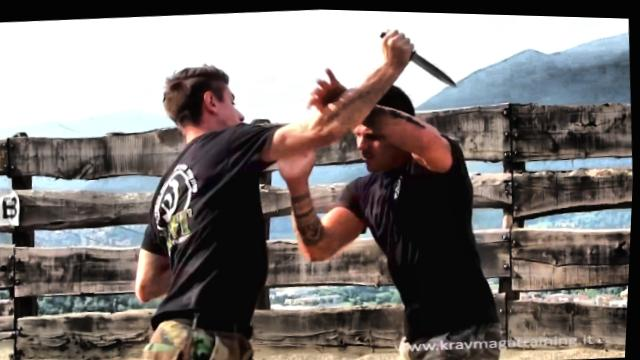knife: (373, 19, 464, 93)
